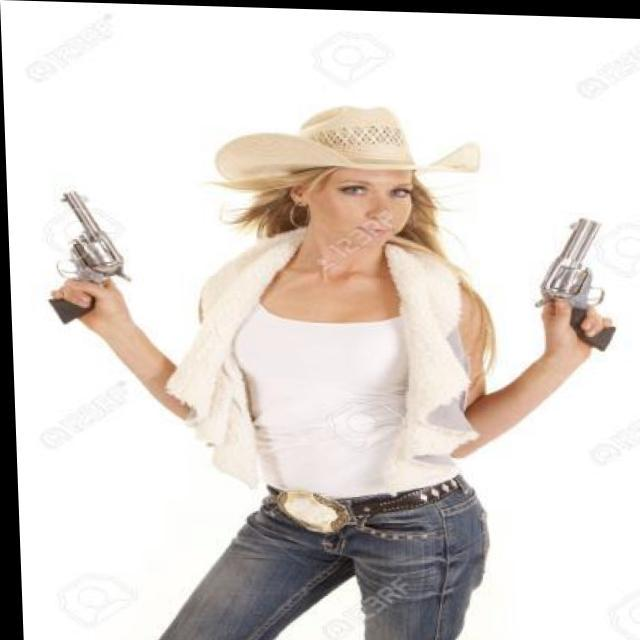weapon: (36, 186, 144, 332), (526, 207, 624, 354)
